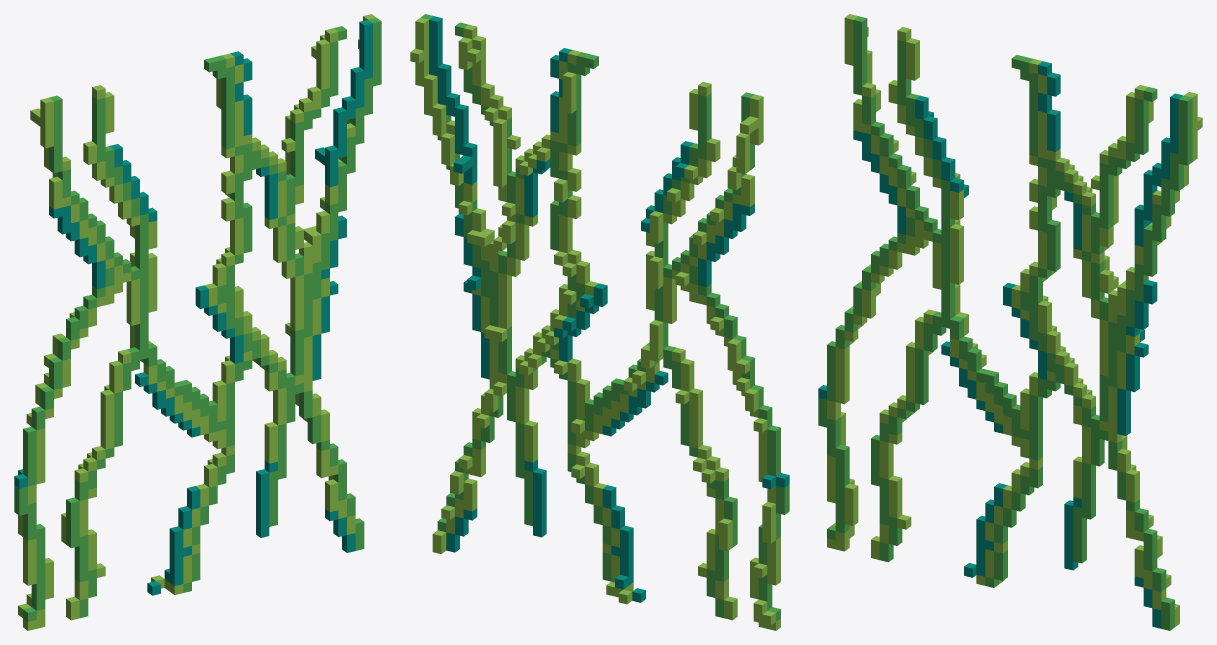
The model's file is Enredadera.obj.
The picture shows the model from 3 angles, left to right: view 1: azimuth 30°, elevation 25°; view 2: azimuth 150°, elevation 25°; view 3: azimuth 330°, elevation 25°; orthographic projection.
Size of the model in its own units: 4.2 by 5.8 by 0.3.
1 material, 1 textured.
